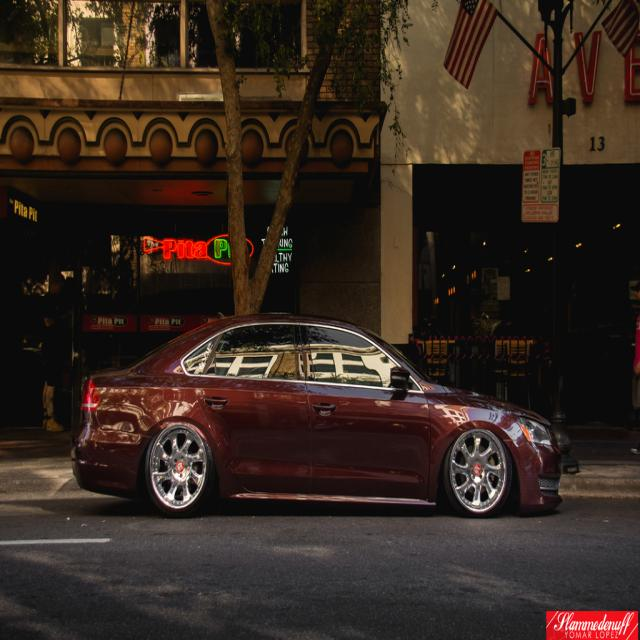car: (69, 316, 555, 525)
